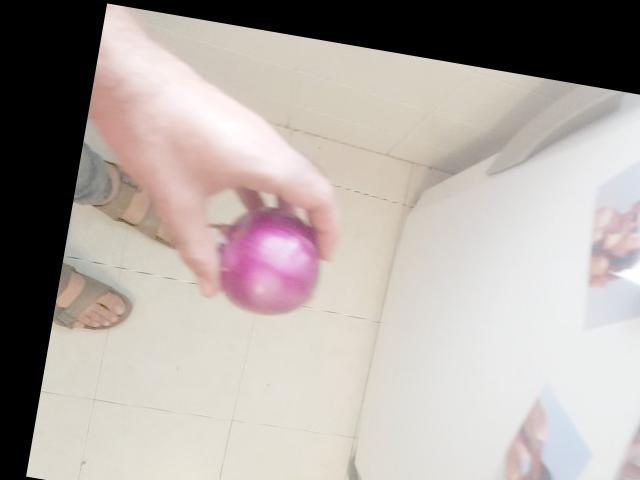onion: (191, 181, 328, 319)
